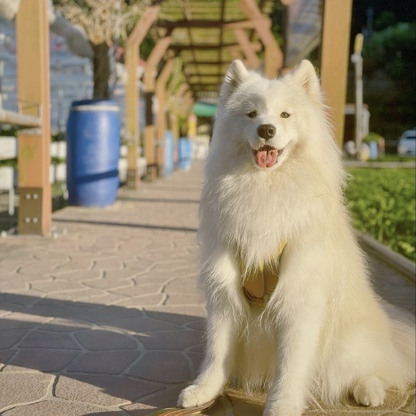samoyed: (172, 53, 416, 415)
